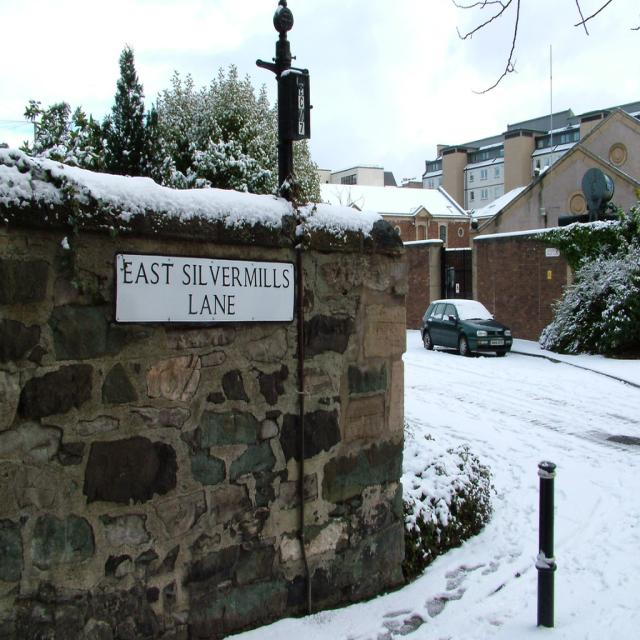car: (420, 295, 506, 361)
